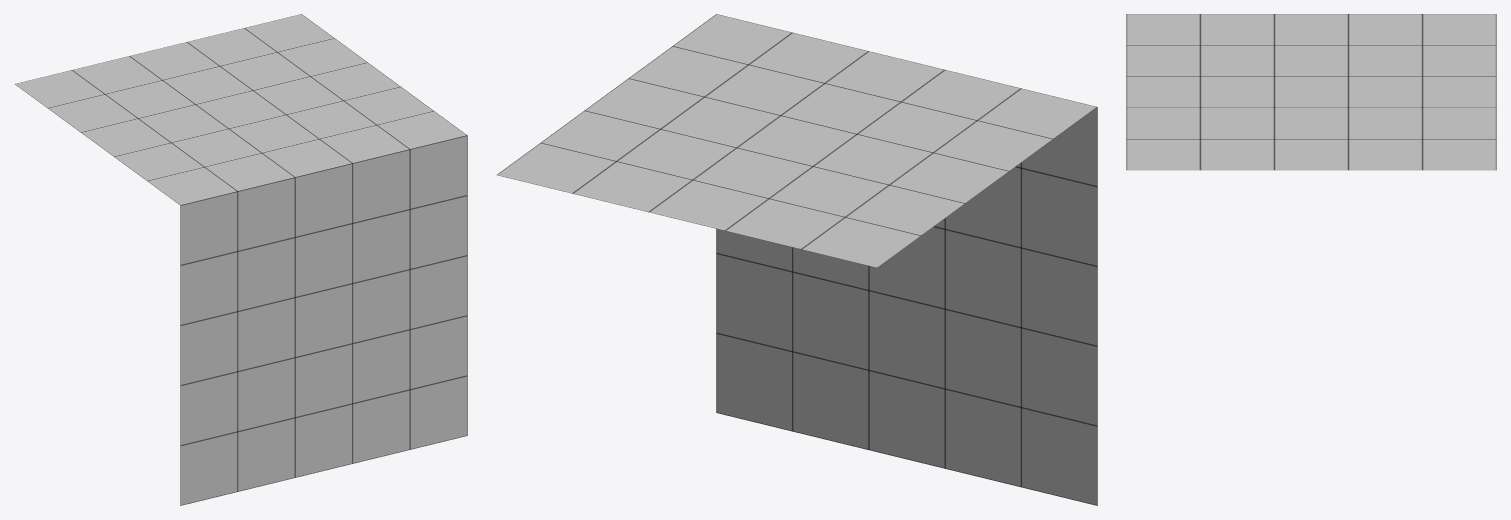
Rendered from right_platform.fbx.
3 renders of one model, left to right at view 1: azimuth 30°, elevation 25°; view 2: azimuth 150°, elevation 25°; view 3: azimuth 270°, elevation 25°, orthographic. The views are drawn at different scales.
Parts seen in each view (by area): view 1: Cube 2; view 2: Cube 2; view 3: Cube 2.
Boxes of the visible parts, x1,y1,x2,y2 form: Cube 2: [15, 14, 467, 505]; Cube 2: [497, 14, 1097, 505]; Cube 2: [1126, 14, 1496, 170].
Bounding box in the file's own units: 2 × 2 × 2.
